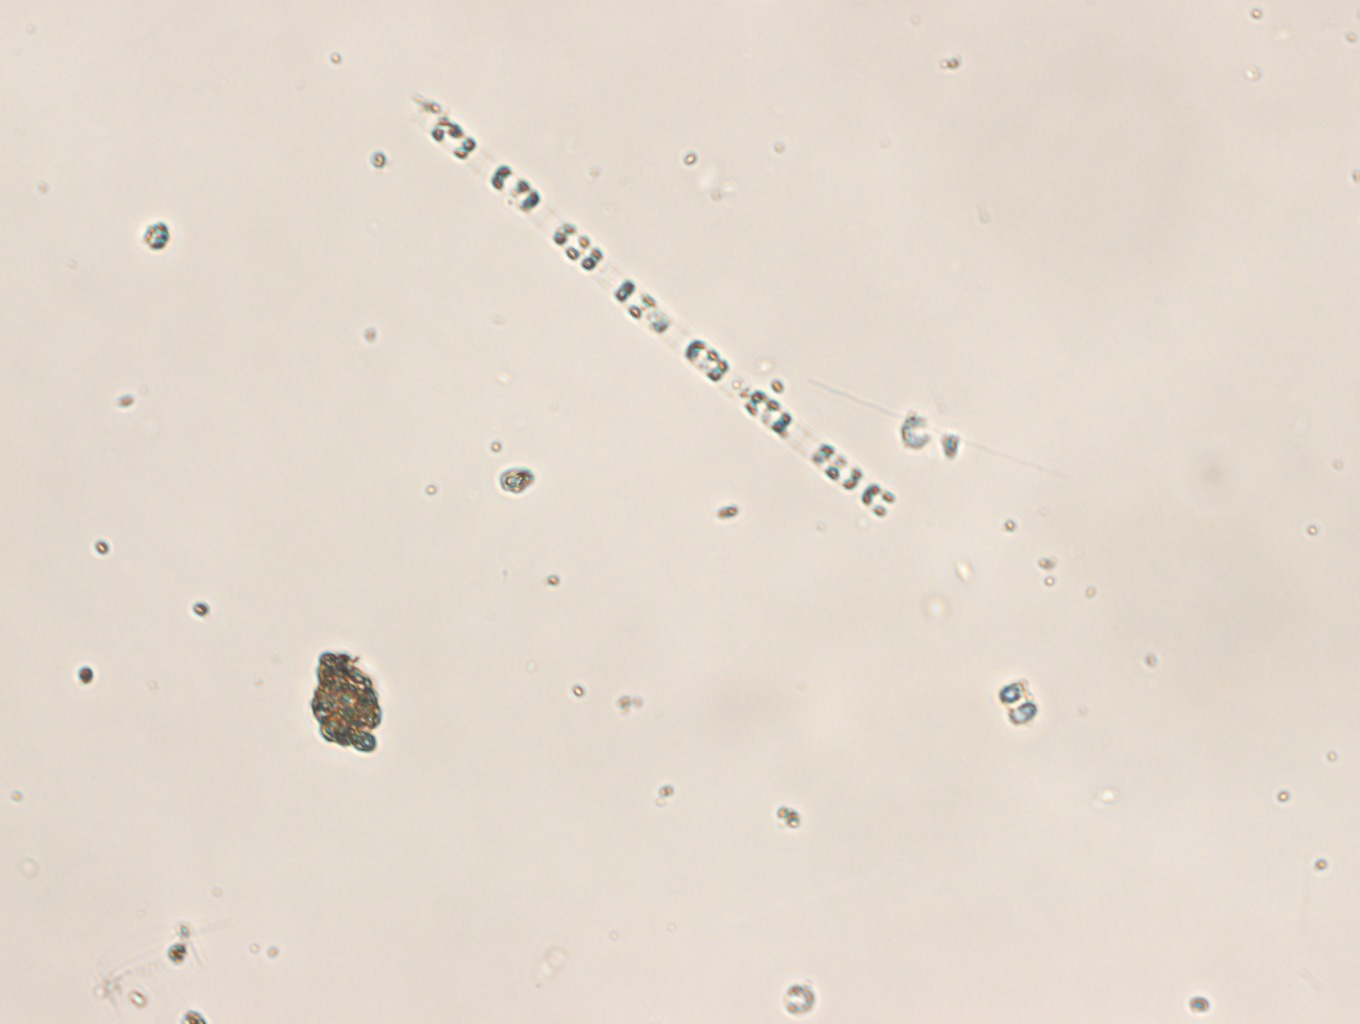skeletonema: (419, 103, 900, 520)
